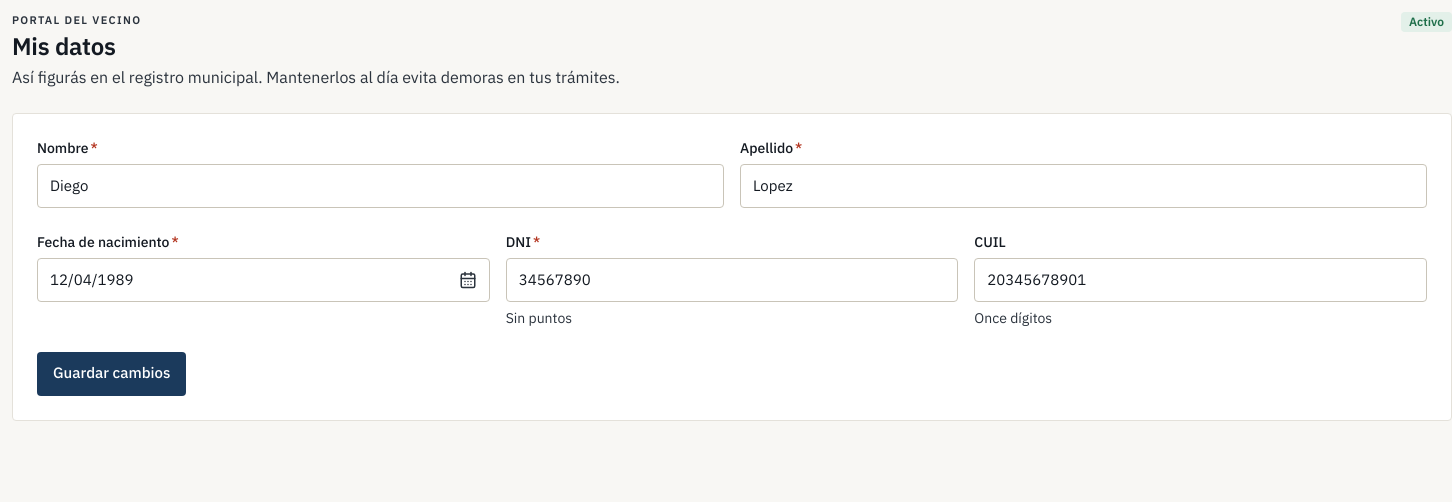
Perfil › muestra el rechazo de campo del servidor sin confirmar ni perder el formulario
Check: the field labelled "Nombre" is shown, box left=37, top=164, right=724, bottom=208
Click the button "Guardar cambios". click: (112, 374)
box: left=37, top=352, right=186, bottom=396
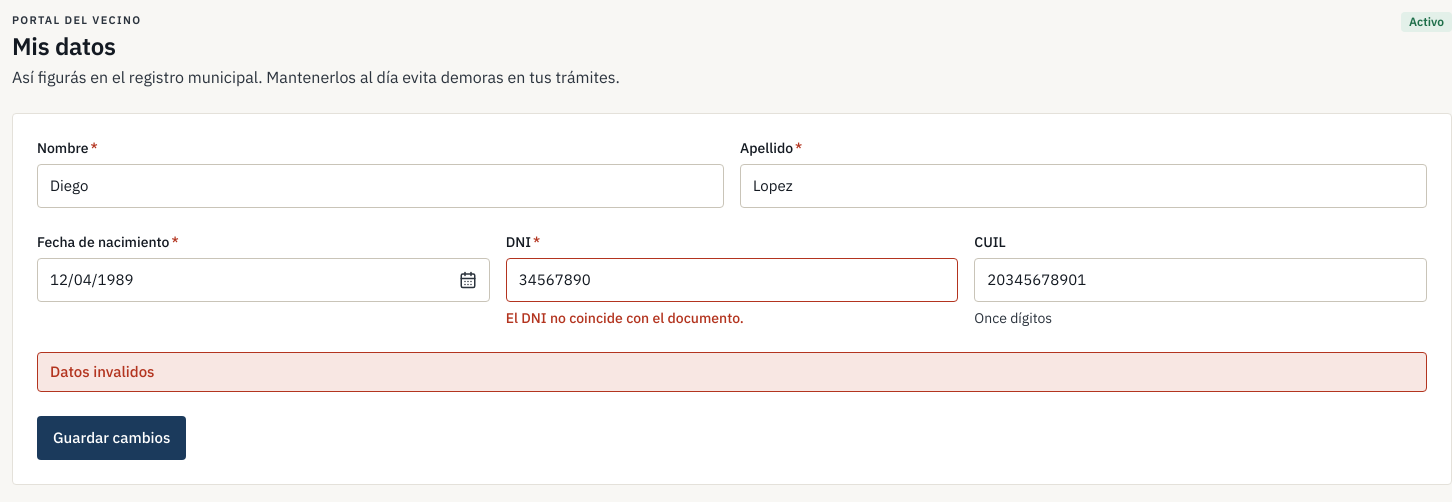
Check: the field labelled "Nombre" holds "Diego", box left=37, top=164, right=724, bottom=208
Check: the text "El DNI no coincide con el documento." is shown, box left=506, top=308, right=744, bottom=326
